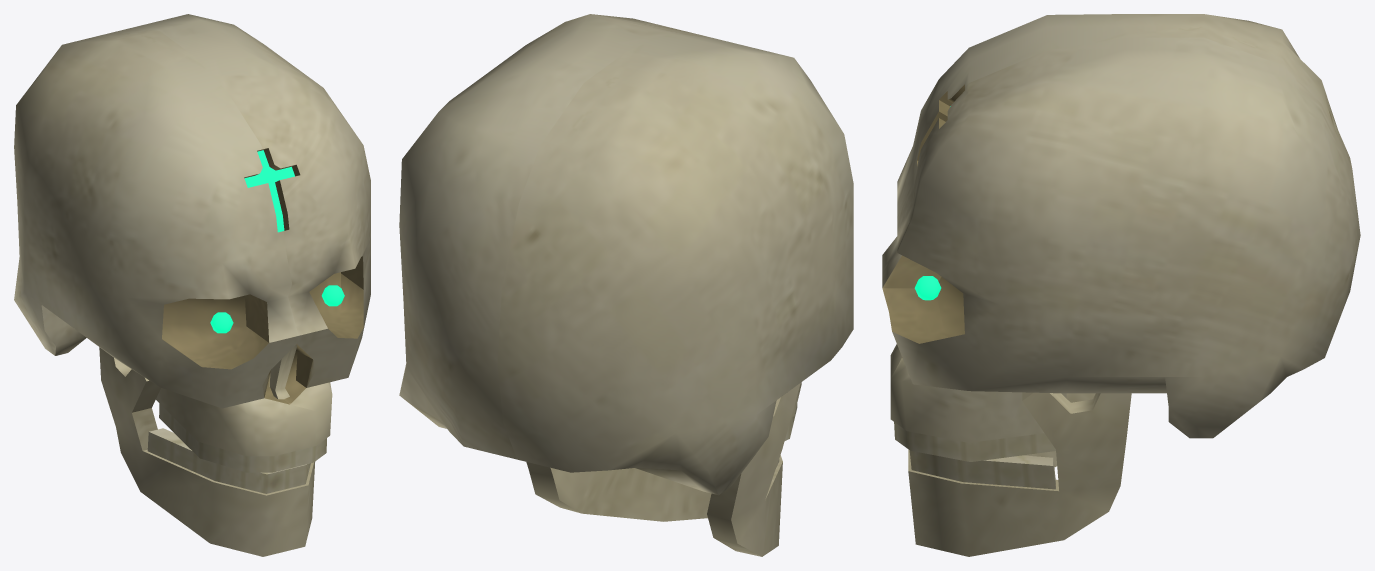
File: StCuan.fbx
3 views of the same model, side by side, from view 1: azimuth 30°, elevation 25°; view 2: azimuth 150°, elevation 25°; view 3: azimuth 270°, elevation 25° (orthographic). The views are drawn at different scales.
Parts seen in each view (by area): view 1: Skull; view 2: Skull; view 3: Skull.
Boxes of the visible parts, x1,y1,x2,y2 form: Skull: [14, 14, 370, 556]; Skull: [399, 14, 853, 556]; Skull: [882, 14, 1360, 556].
Size of the model in its own units: 26.64 by 35.61 by 40.67.
